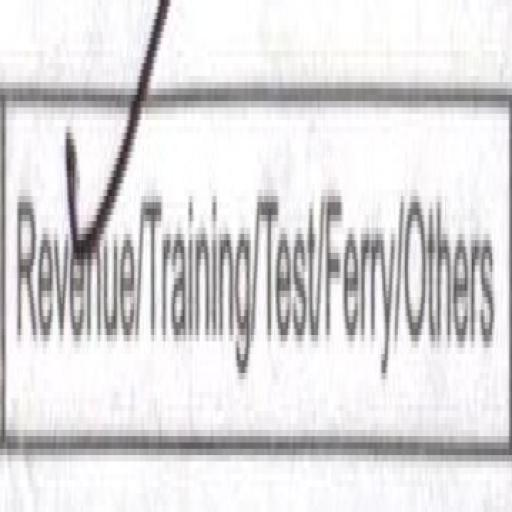check: (1, 0, 142, 482)
